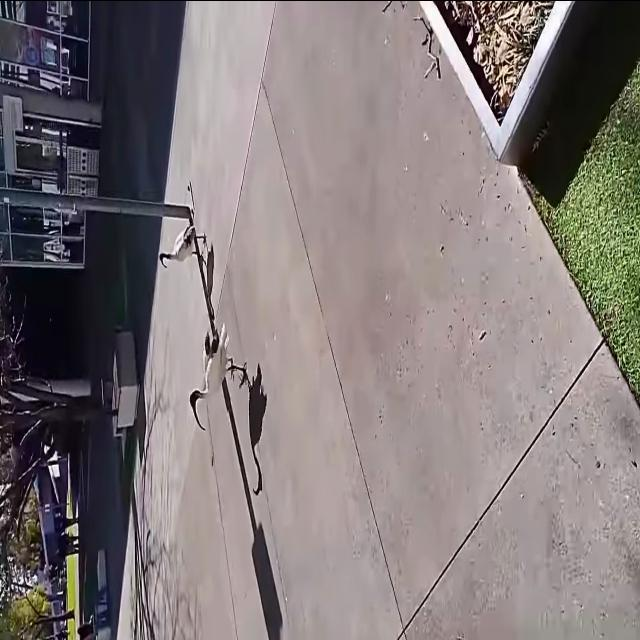Birds-Ibis: (184, 314, 252, 434), (155, 216, 208, 278)
